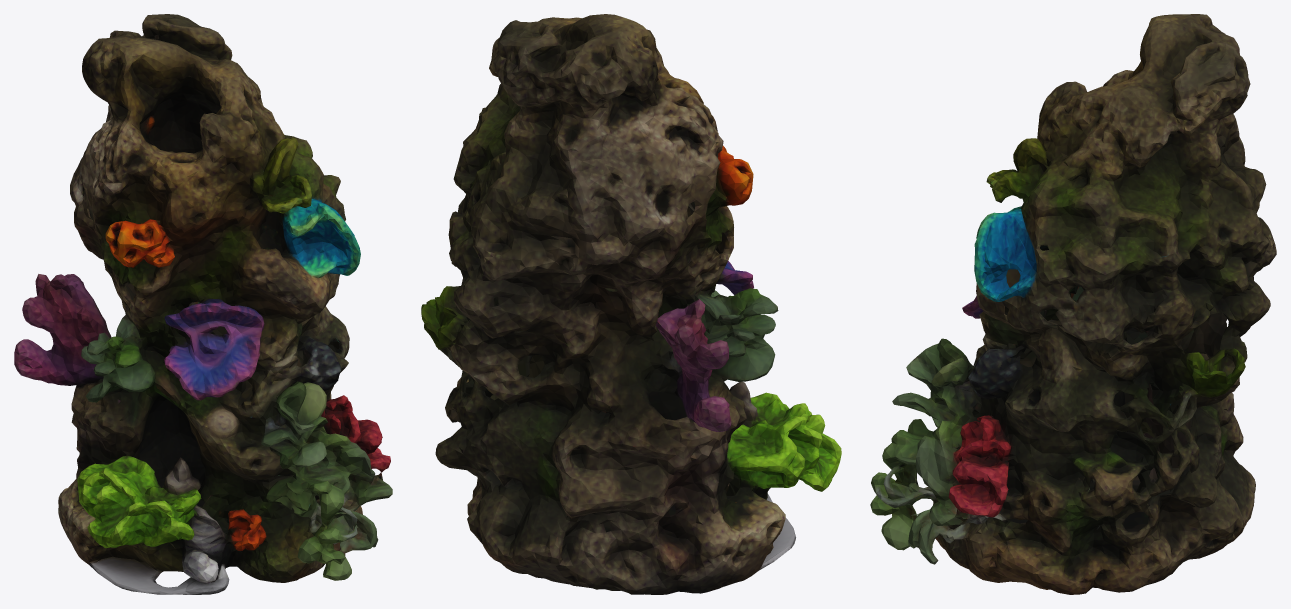
File: cliff04.glb
3 renders of one model, left to right at view 1: azimuth 30°, elevation 25°; view 2: azimuth 150°, elevation 25°; view 3: azimuth 270°, elevation 25°, orthographic. The views are drawn at different scales.
Visible parts, largest first — view 1: world; view 2: world; view 3: world.
Boxes of the visible parts, <box> form: world: <box>14,14,392,594</box>; world: <box>421,14,841,594</box>; world: <box>870,14,1276,594</box>.
Size of the model in its own units: 0.6098 by 0.9989 by 0.73.
1 material, 1 textured.
